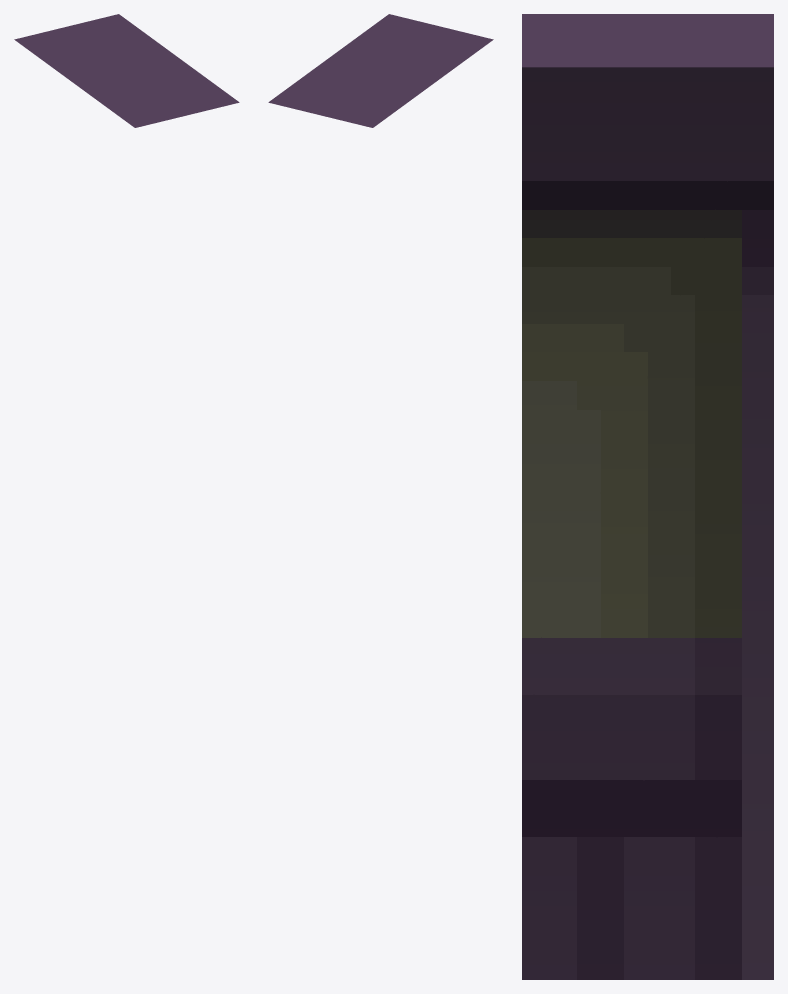
3 renders of one model, left to right at view 1: azimuth 30°, elevation 25°; view 2: azimuth 150°, elevation 25°; view 3: azimuth 270°, elevation 25°, orthographic. The views are drawn at different scales.
Size of the model in its own units: 0.5 by 4 by 1.
Materials: 2 (2 with a texture image).
